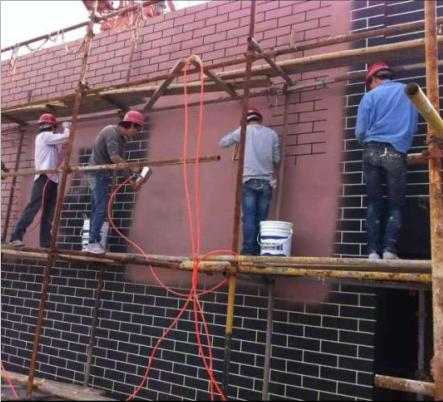boots: (82, 241, 105, 253), (9, 238, 25, 249), (382, 250, 399, 259), (367, 252, 380, 261)
hard-hat: (364, 61, 393, 82), (121, 109, 144, 125), (244, 108, 262, 122), (37, 113, 56, 126)
person: (353, 61, 418, 261), (217, 107, 282, 256), (83, 109, 145, 255), (8, 113, 71, 250)
